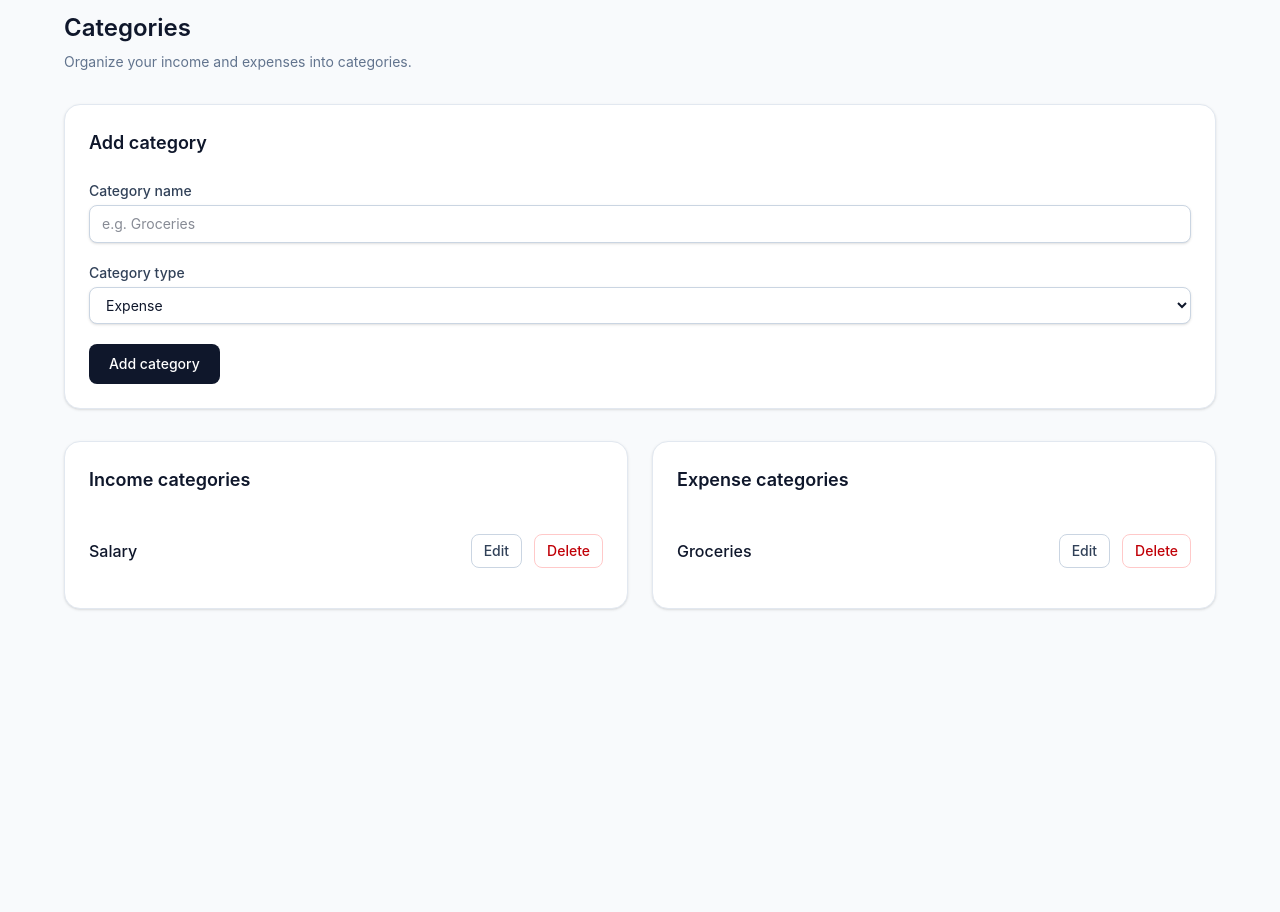
Test case: CategoriesPage › opens the delete confirmation for the selected category
The width and height of the screenshot is (1280, 912).
Click the button "Delete" in the row of "Groceries".
click(1157, 551)  # box [1122,534,1191,568]
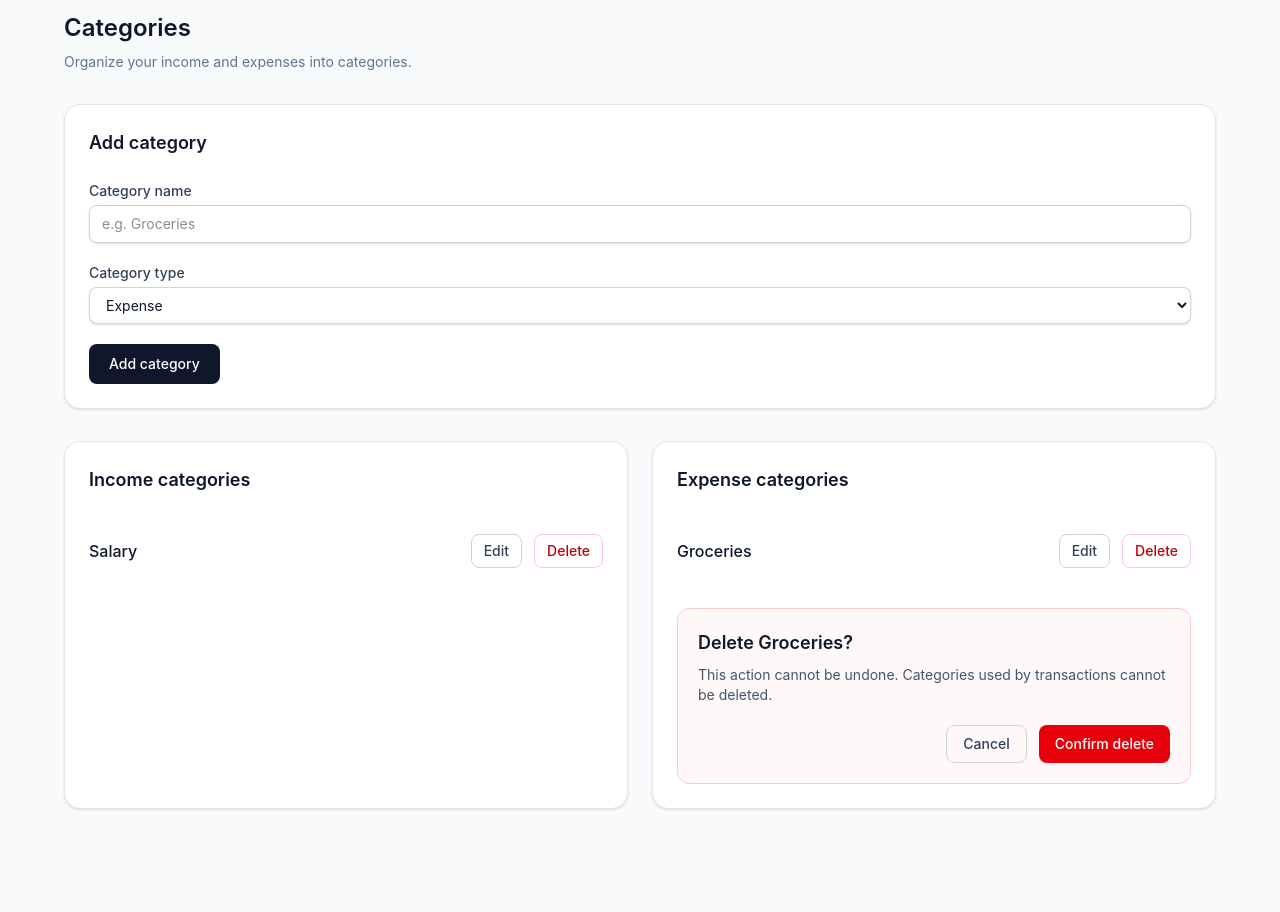
Result: the heading "Delete Groceries?" is shown at [698,632,853,653]
Result: the button "Confirm delete" is shown at [1039,725,1170,763]
